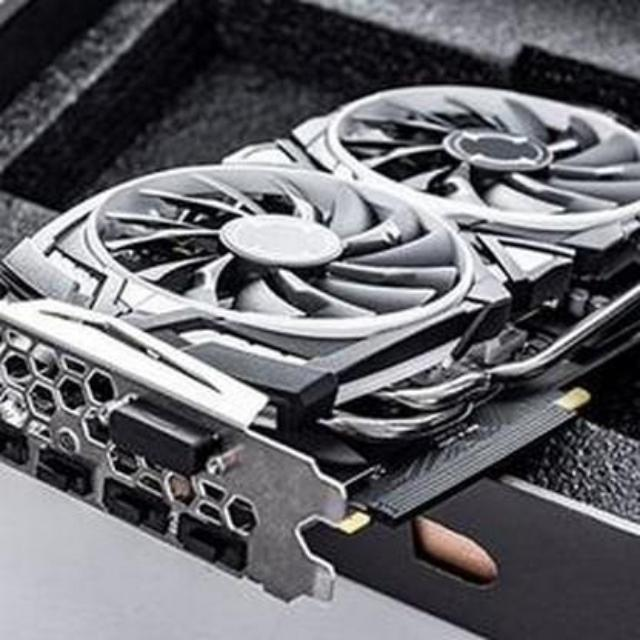GPU: (0, 74, 640, 556)
